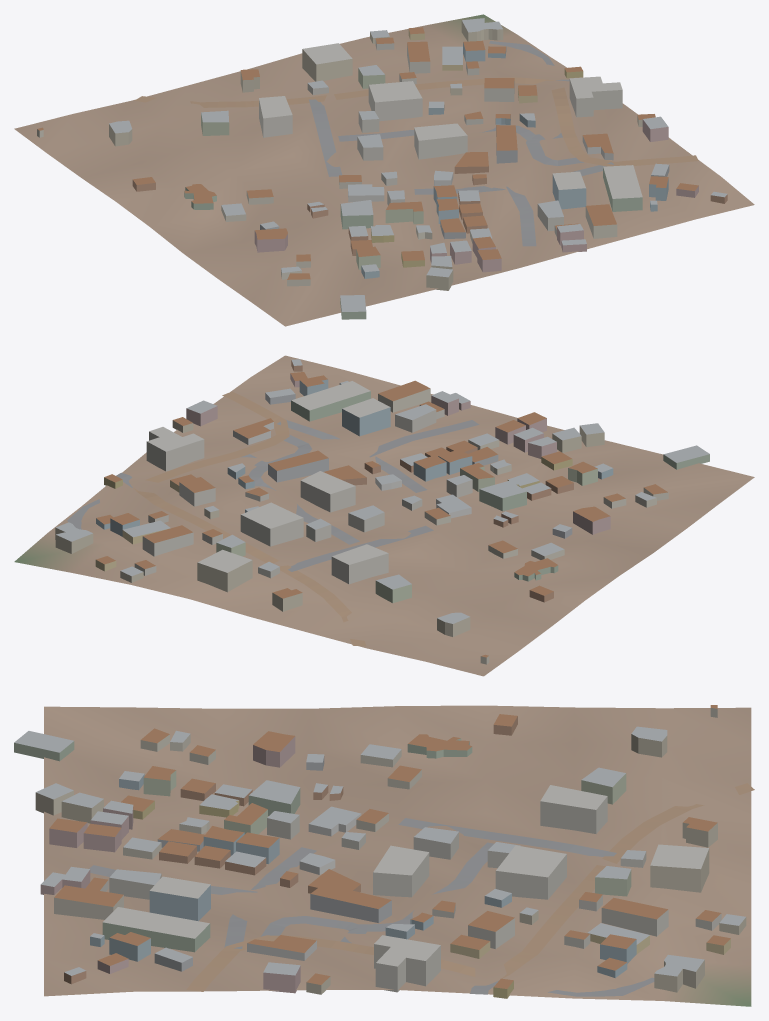
3 views of the same model, one above another, from view 1: azimuth 30°, elevation 25°; view 2: azimuth 150°, elevation 25°; view 3: azimuth 270°, elevation 25° (orthographic). The views are drawn at different scales.
Visible parts, largest first — view 1: Lo; view 2: Lo; view 3: Lo.
Boxes of the visible parts, x1,y1,x2,y2 form: Lo: (14, 14, 754, 326); Lo: (14, 355, 754, 676); Lo: (14, 705, 754, 1006).
Bounding box in the file's own units: 259 × 17.92 × 268.
